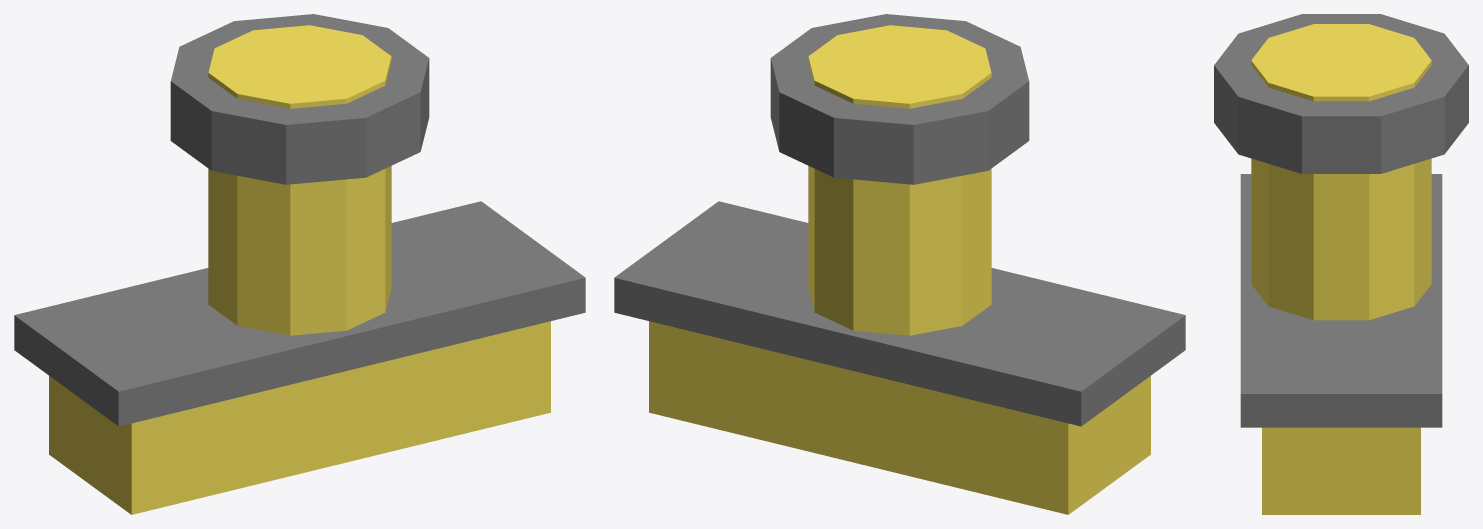
Rendered from press_gold_ram.glb.
3 views of the same model, side by side, from view 1: azimuth 30°, elevation 25°; view 2: azimuth 150°, elevation 25°; view 3: azimuth 270°, elevation 25° (orthographic). The views are drawn at different scales.
Parts seen in each view (by area): view 1: press_gold_ram; view 2: press_gold_ram; view 3: press_gold_ram.
Part boxes in pixels (bbox=[...]): press_gold_ram: bbox=[14, 14, 585, 514]; press_gold_ram: bbox=[614, 14, 1185, 514]; press_gold_ram: bbox=[1214, 14, 1468, 514].
Bounding box in the file's own units: 0.49 × 0.37 × 0.24.
